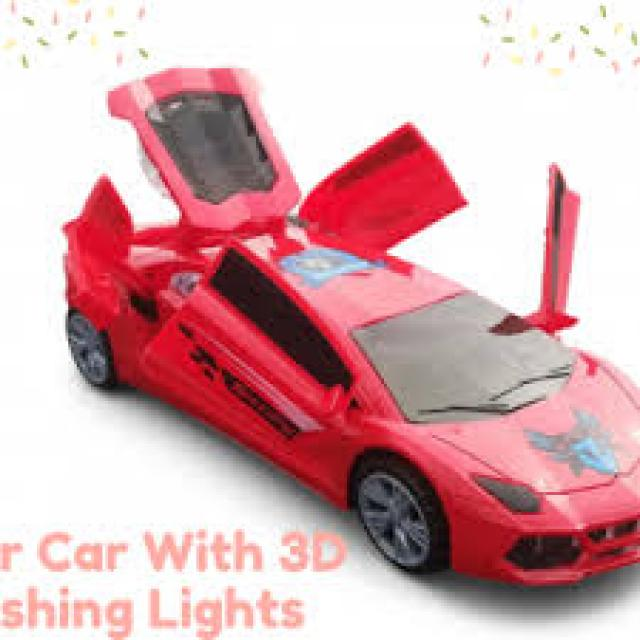Car: (60, 63, 637, 586)
